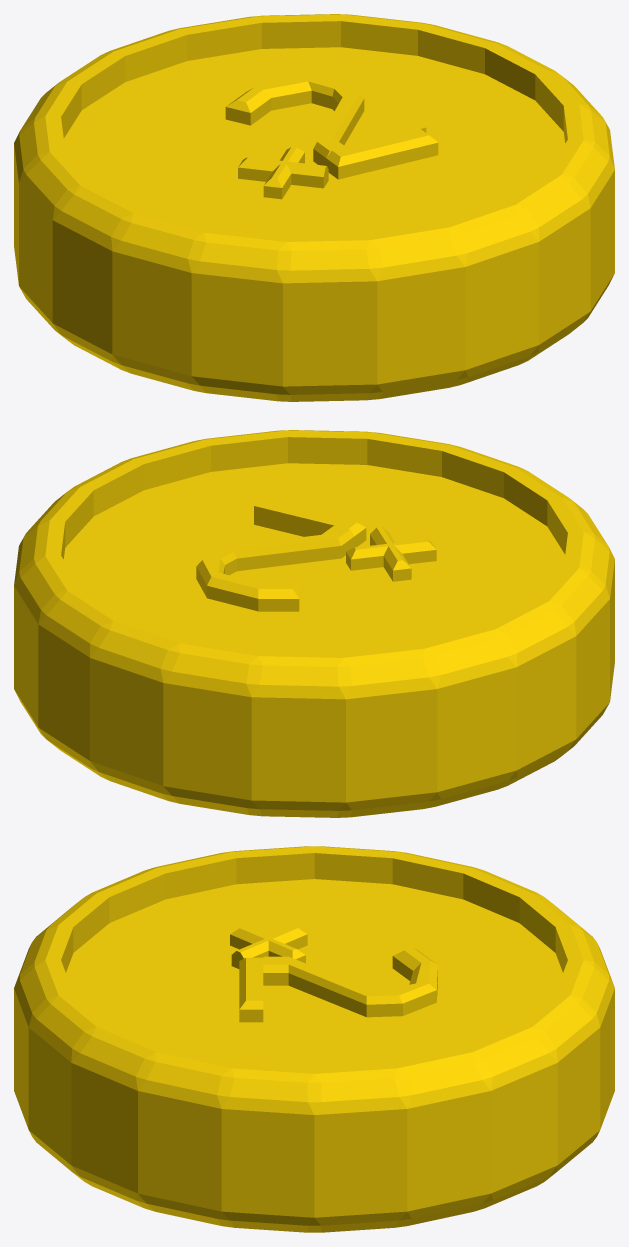
File: coin2x.fbx
3 views of the same model, one above another, from view 1: azimuth 30°, elevation 25°; view 2: azimuth 150°, elevation 25°; view 3: azimuth 270°, elevation 25° (orthographic).
Visible parts, largest first — view 1: Cylinder; view 2: Cylinder; view 3: Cylinder.
Part boxes in pixels (bbox=[...]): Cylinder: bbox=[14, 14, 614, 401]; Cylinder: bbox=[14, 430, 614, 817]; Cylinder: bbox=[14, 846, 614, 1232].
Size of the model in its own units: 145 by 42.12 by 145.
